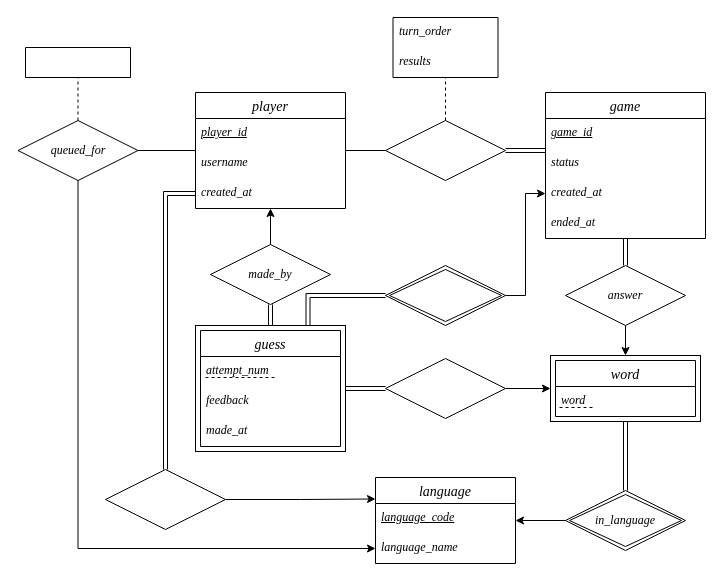
Image size: 723x584. Some labels were removed from this diagram. Each missing label, with the centre of its shape:
game_guess: the point at 445,295
guessed: the point at 445,388
joined_at: the point at 77,62
plays: the point at 445,150
prefers: the point at 165,499
